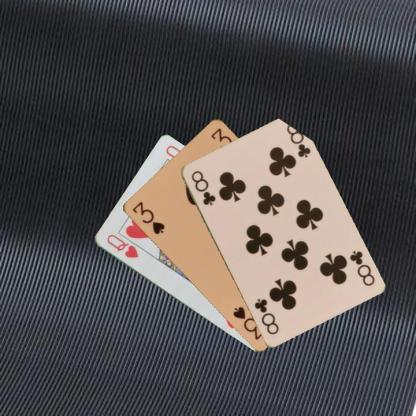3s: (129, 198, 166, 236)
8c: (346, 248, 376, 288), (188, 167, 217, 207)
Qh: (103, 231, 140, 260)
